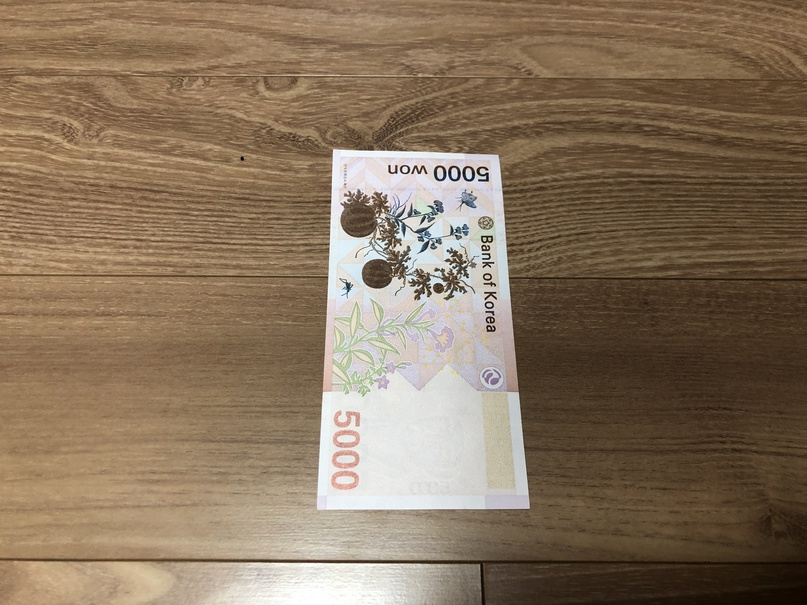5000won: (316, 149, 533, 511)
